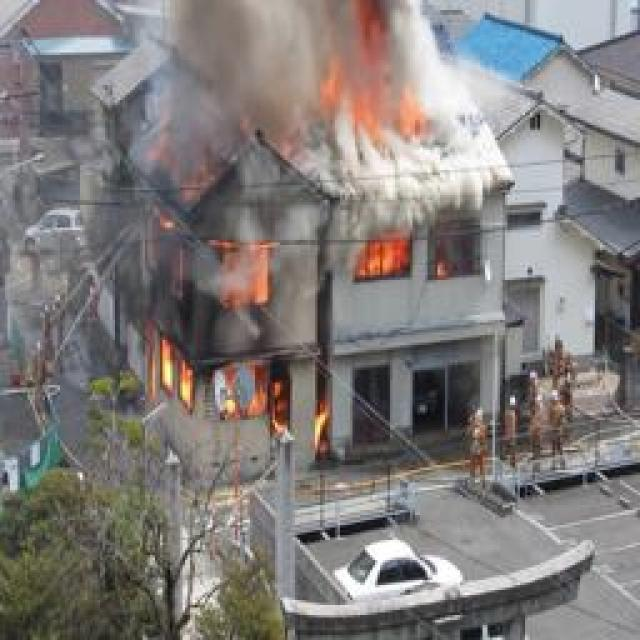Fire: (130, 184, 332, 456), (324, 11, 433, 138), (363, 230, 452, 282)
